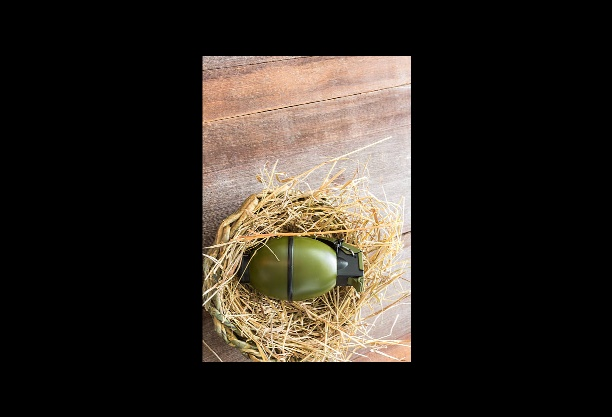e1: (224, 237, 370, 305)
